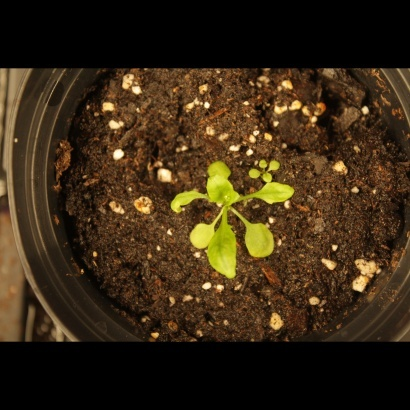leaf: (206, 210, 240, 282), (243, 221, 281, 262), (256, 180, 304, 210), (165, 184, 206, 215), (186, 219, 221, 255), (204, 171, 235, 205), (206, 157, 233, 181), (270, 150, 293, 173), (237, 158, 260, 181), (245, 145, 268, 168), (259, 168, 282, 191)
